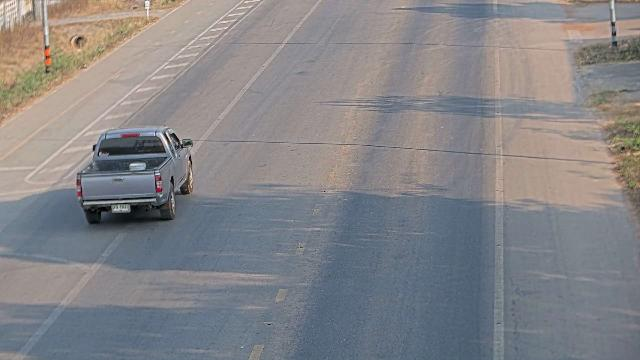pickup-truck: (75, 124, 194, 224)
